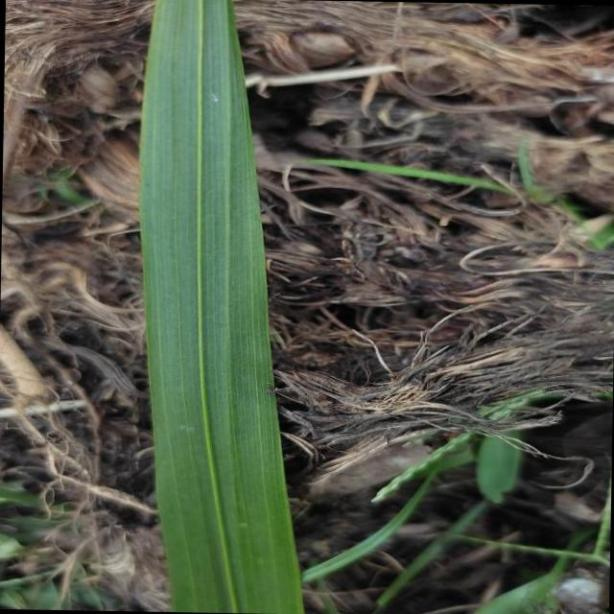Healthy: (137, 3, 303, 614)
